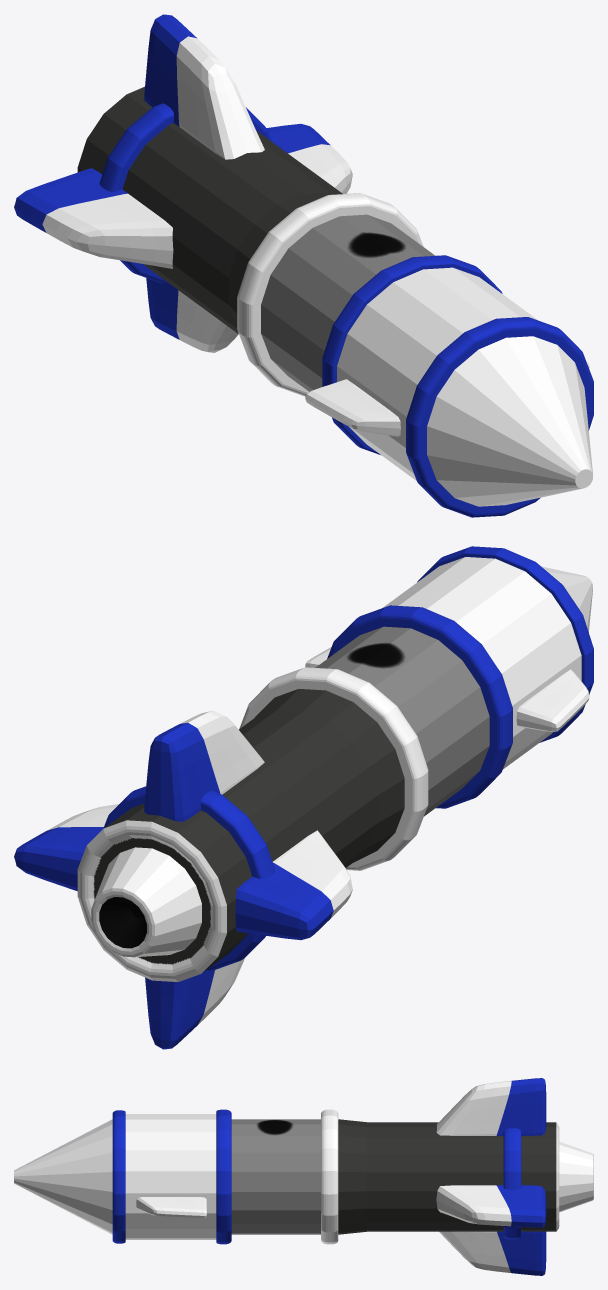
The model's file is Rocket3.fbx.
The picture shows the model from 3 angles, top to bottom: view 1: azimuth 30°, elevation 25°; view 2: azimuth 150°, elevation 25°; view 3: azimuth 270°, elevation 25°; orthographic projection. The views are drawn at different scales.
Parts seen in each view (by area): view 1: Cylinder.009, Cube.012, Cube.013; view 2: Cylinder.009, Cube.012, Cube.013; view 3: Cylinder.009, Cube.012, Cube.013.
Part boxes in pixels (x1,y1,x2,y2): Cylinder.009: (77,86,593,517); Cube.012: (14,14,352,352); Cube.013: (305,360,589,436); Cylinder.009: (77,546,593,981); Cube.012: (14,711,352,1049); Cube.013: (305,647,589,731); Cylinder.009: (14,1109,593,1244); Cube.012: (436,1078,546,1275); Cube.013: (136,1197,206,1217).
Size of the model in its own units: 0.7581 by 0.7581 by 2.03.
